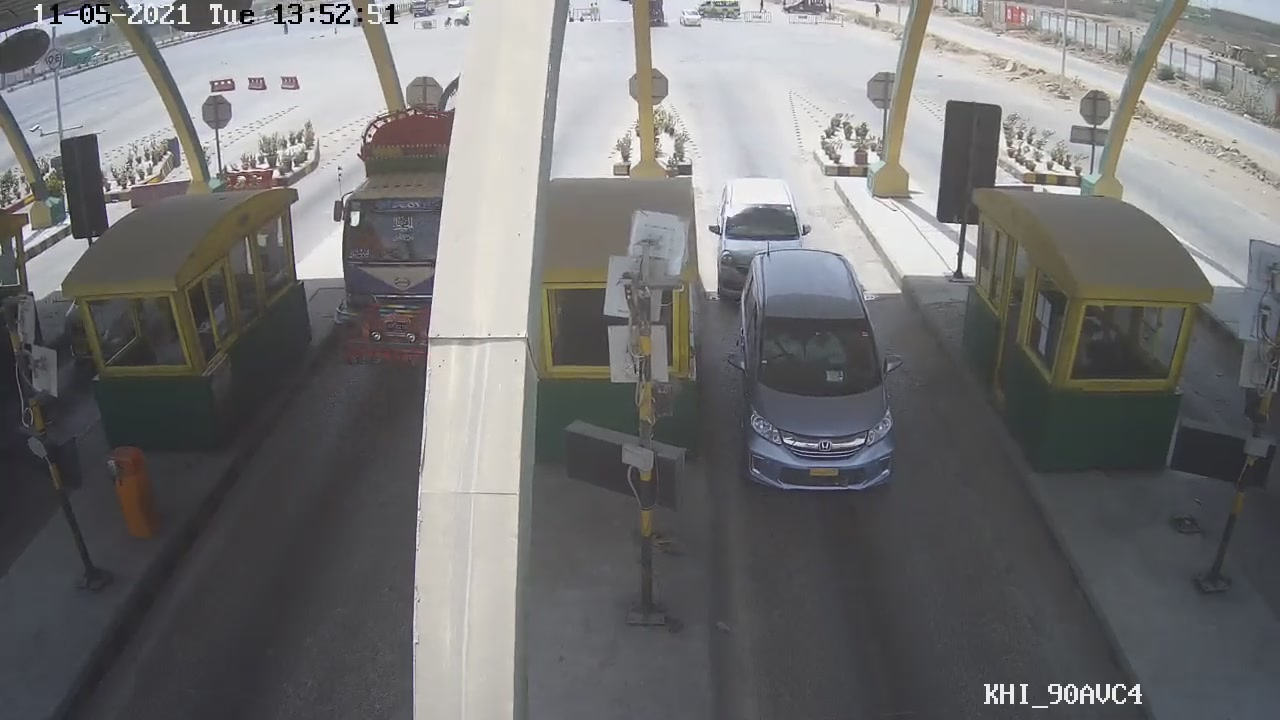F1: (733, 240, 923, 506)
